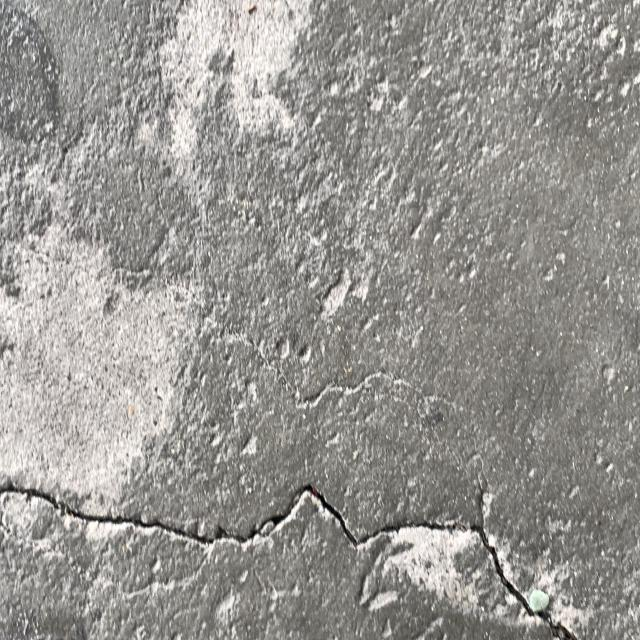GRIETA: (0, 484, 576, 639), (220, 330, 417, 410)
